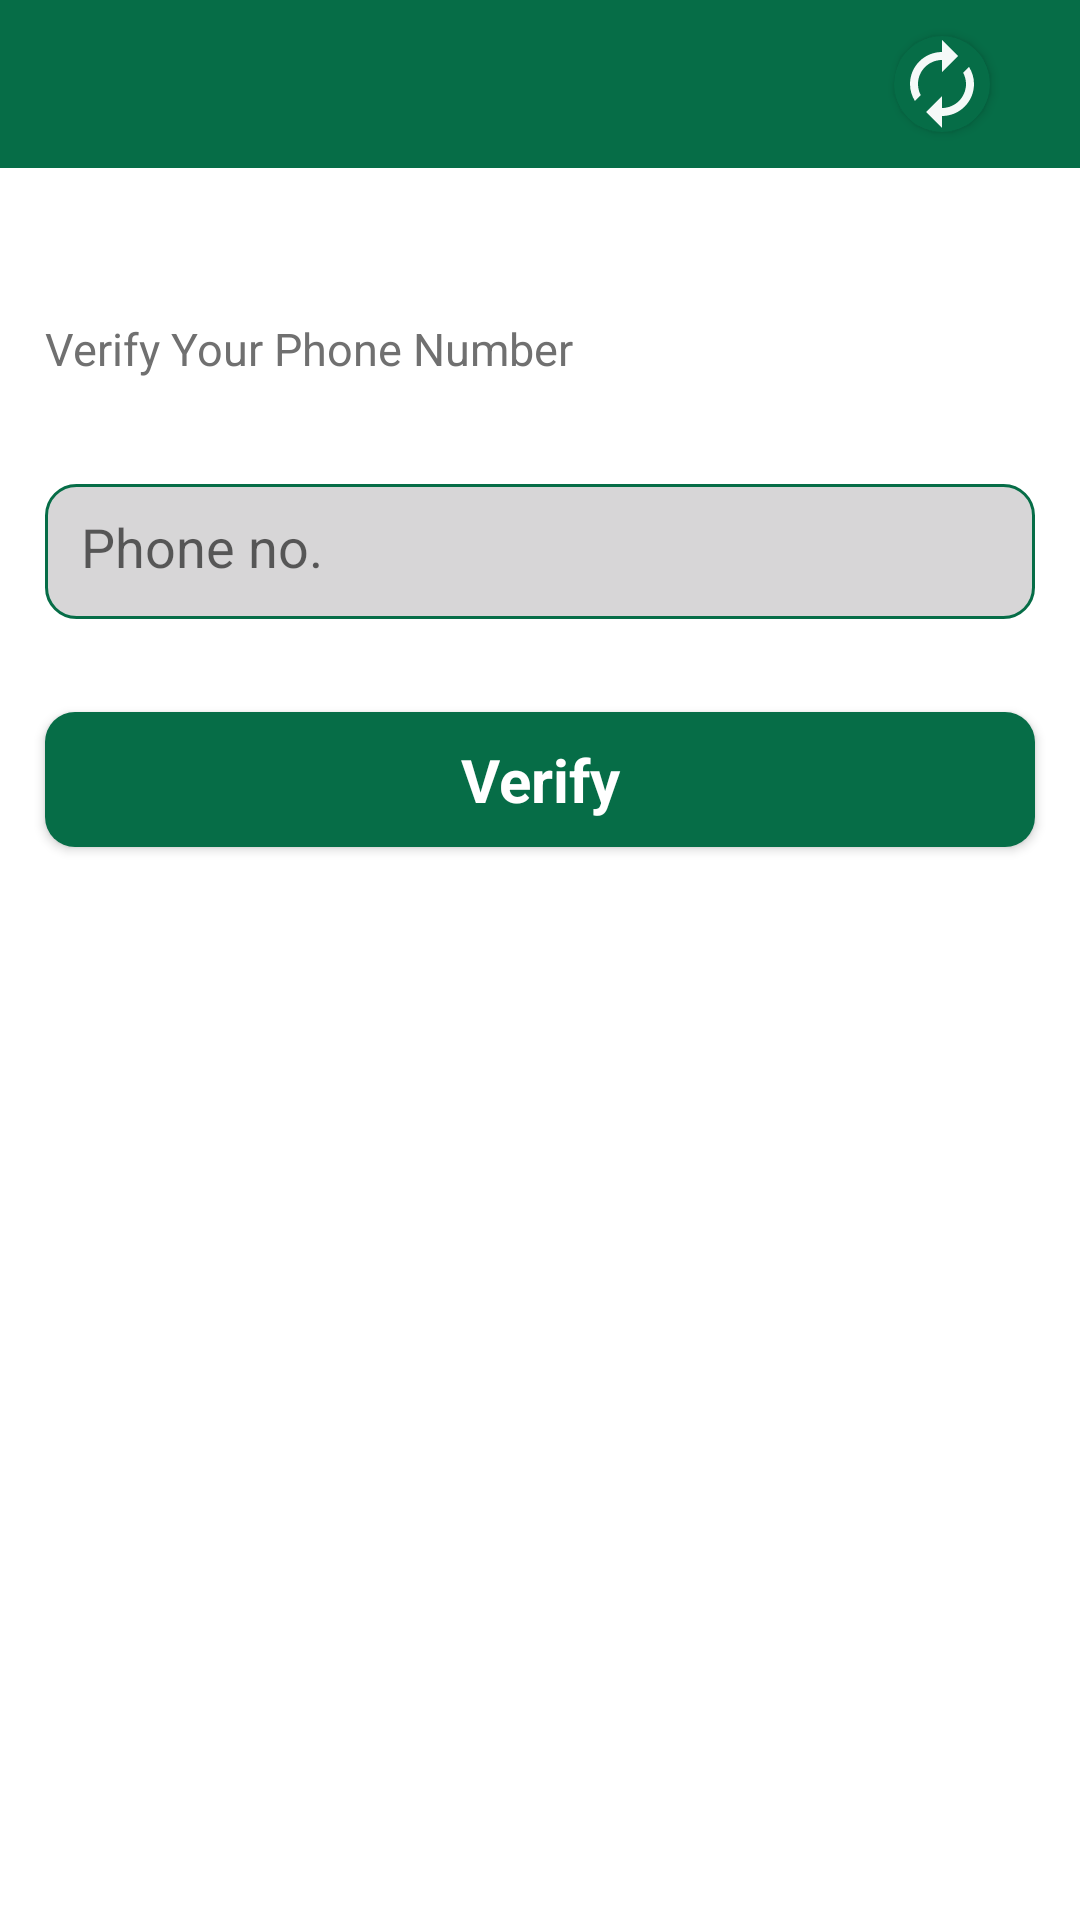

Where icons sit on this 1080*1920 app screen, as (x1, y1, x2, y2):
reload: (910, 40, 974, 128)
